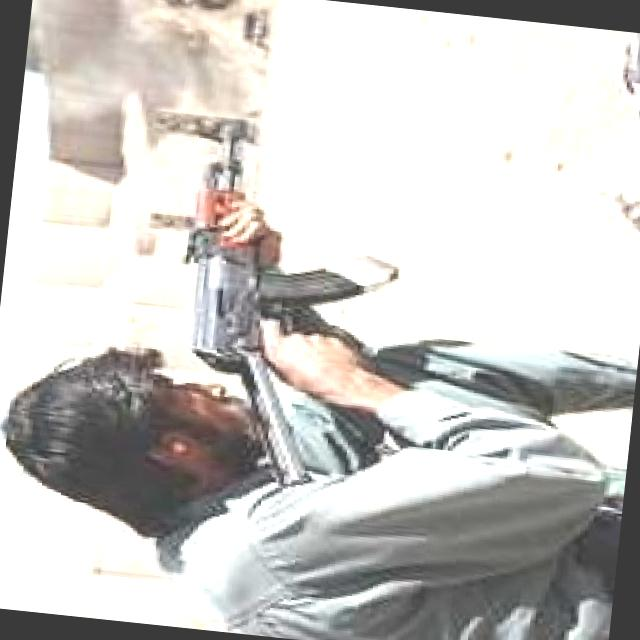long weapon: (146, 93, 396, 392)
